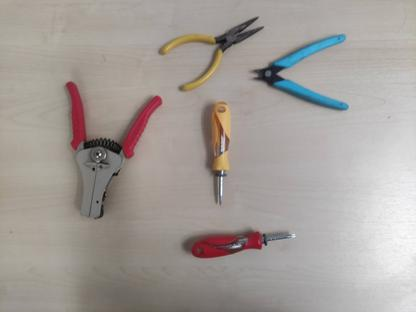Screwdriver: (190, 230, 297, 260), (205, 99, 234, 209)
